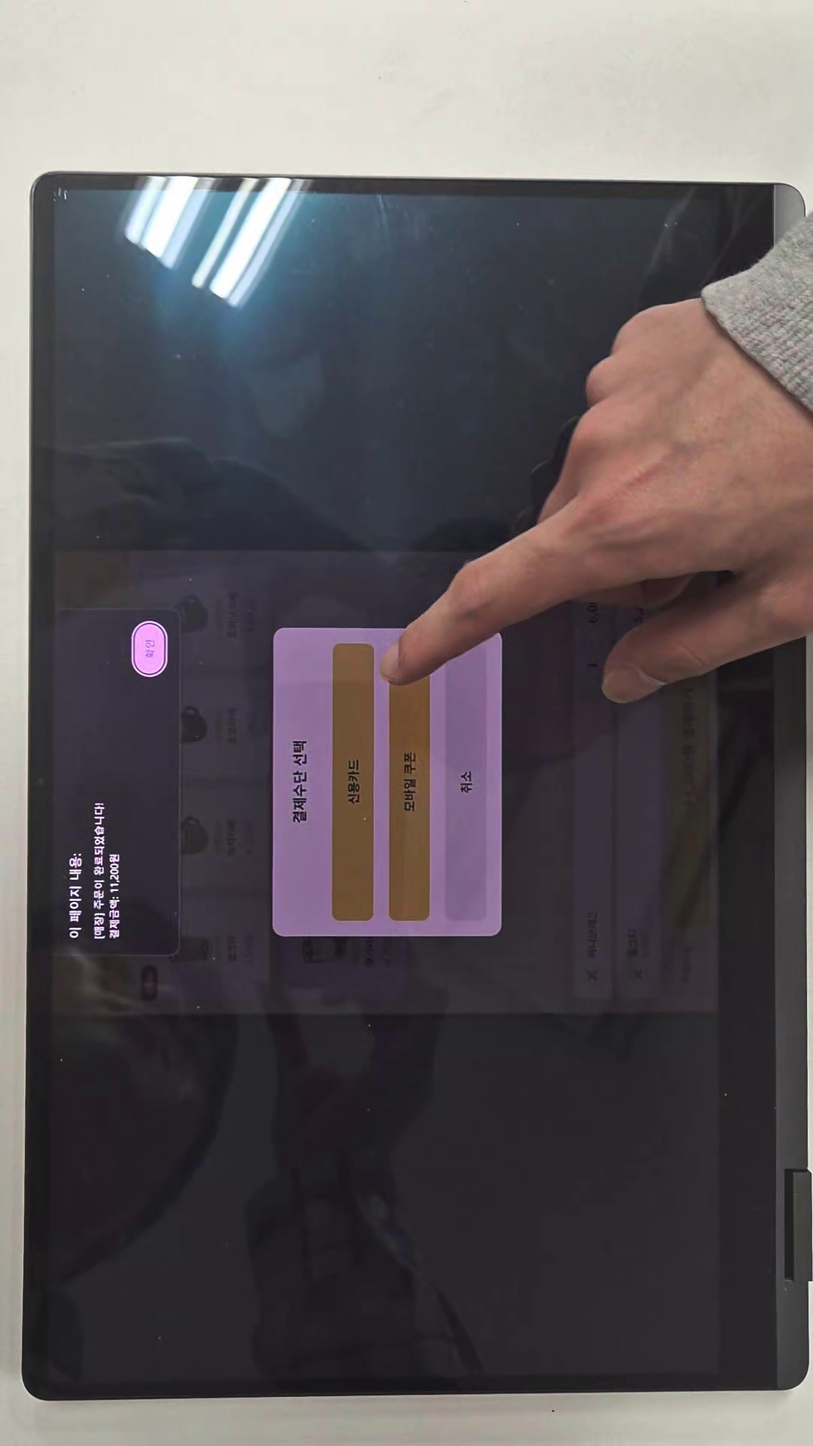action_button: (445, 646, 485, 920), (131, 622, 168, 676)
option_button: (333, 643, 374, 921), (389, 643, 430, 921)
popup_modal: (273, 628, 502, 935), (53, 608, 180, 955)
